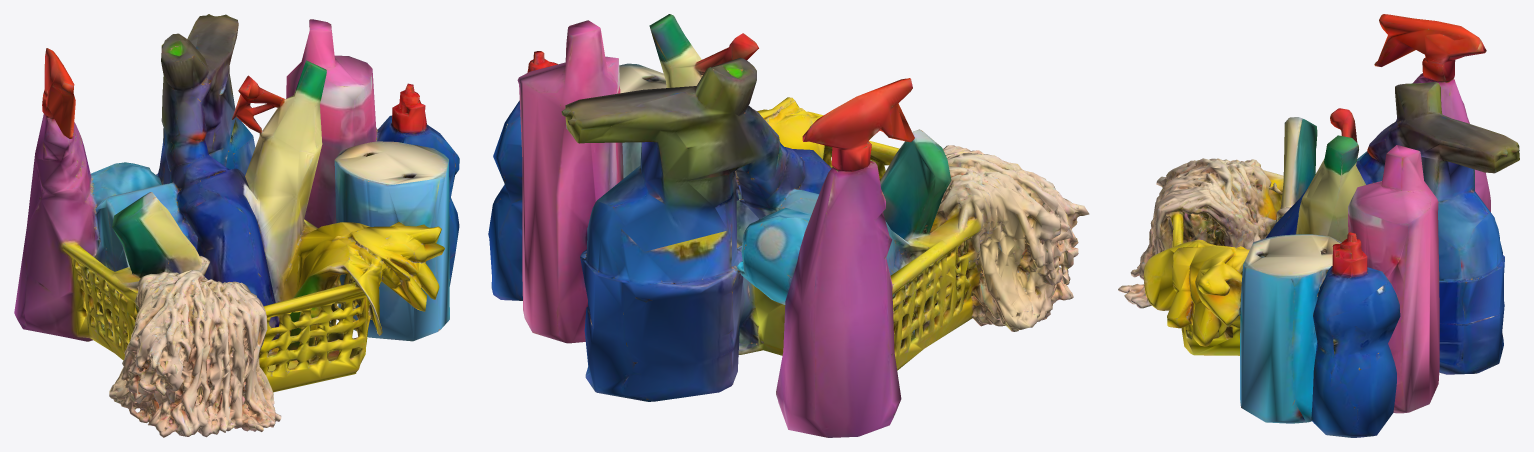
The picture shows the model from 3 angles, left to right: view 1: azimuth 30°, elevation 25°; view 2: azimuth 150°, elevation 25°; view 3: azimuth 270°, elevation 25°; orthographic projection. The views are drawn at different scales.
Size of the model in its own units: 2 by 1.31 by 1.83.
Materials: 1 (1 with a texture image).
